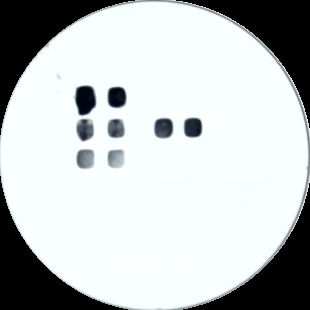检查点: (75, 85, 97, 117), (105, 149, 128, 171), (75, 118, 96, 142), (107, 86, 128, 109), (181, 117, 204, 138), (153, 118, 174, 139), (75, 149, 95, 169), (107, 117, 126, 138)
